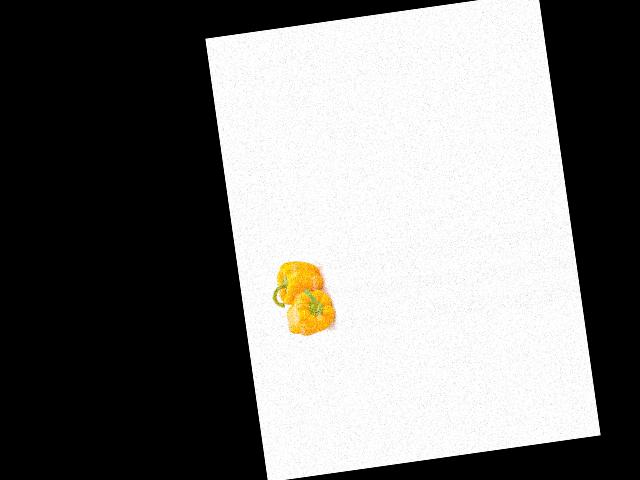bell_pepper: (269, 256, 326, 310)
